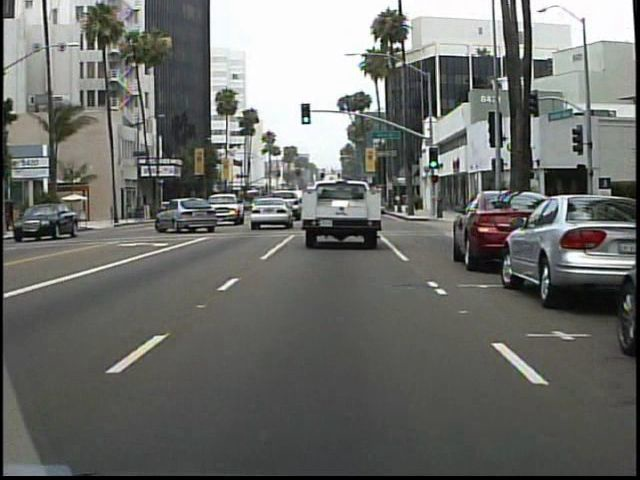person: (439, 188, 447, 220)
